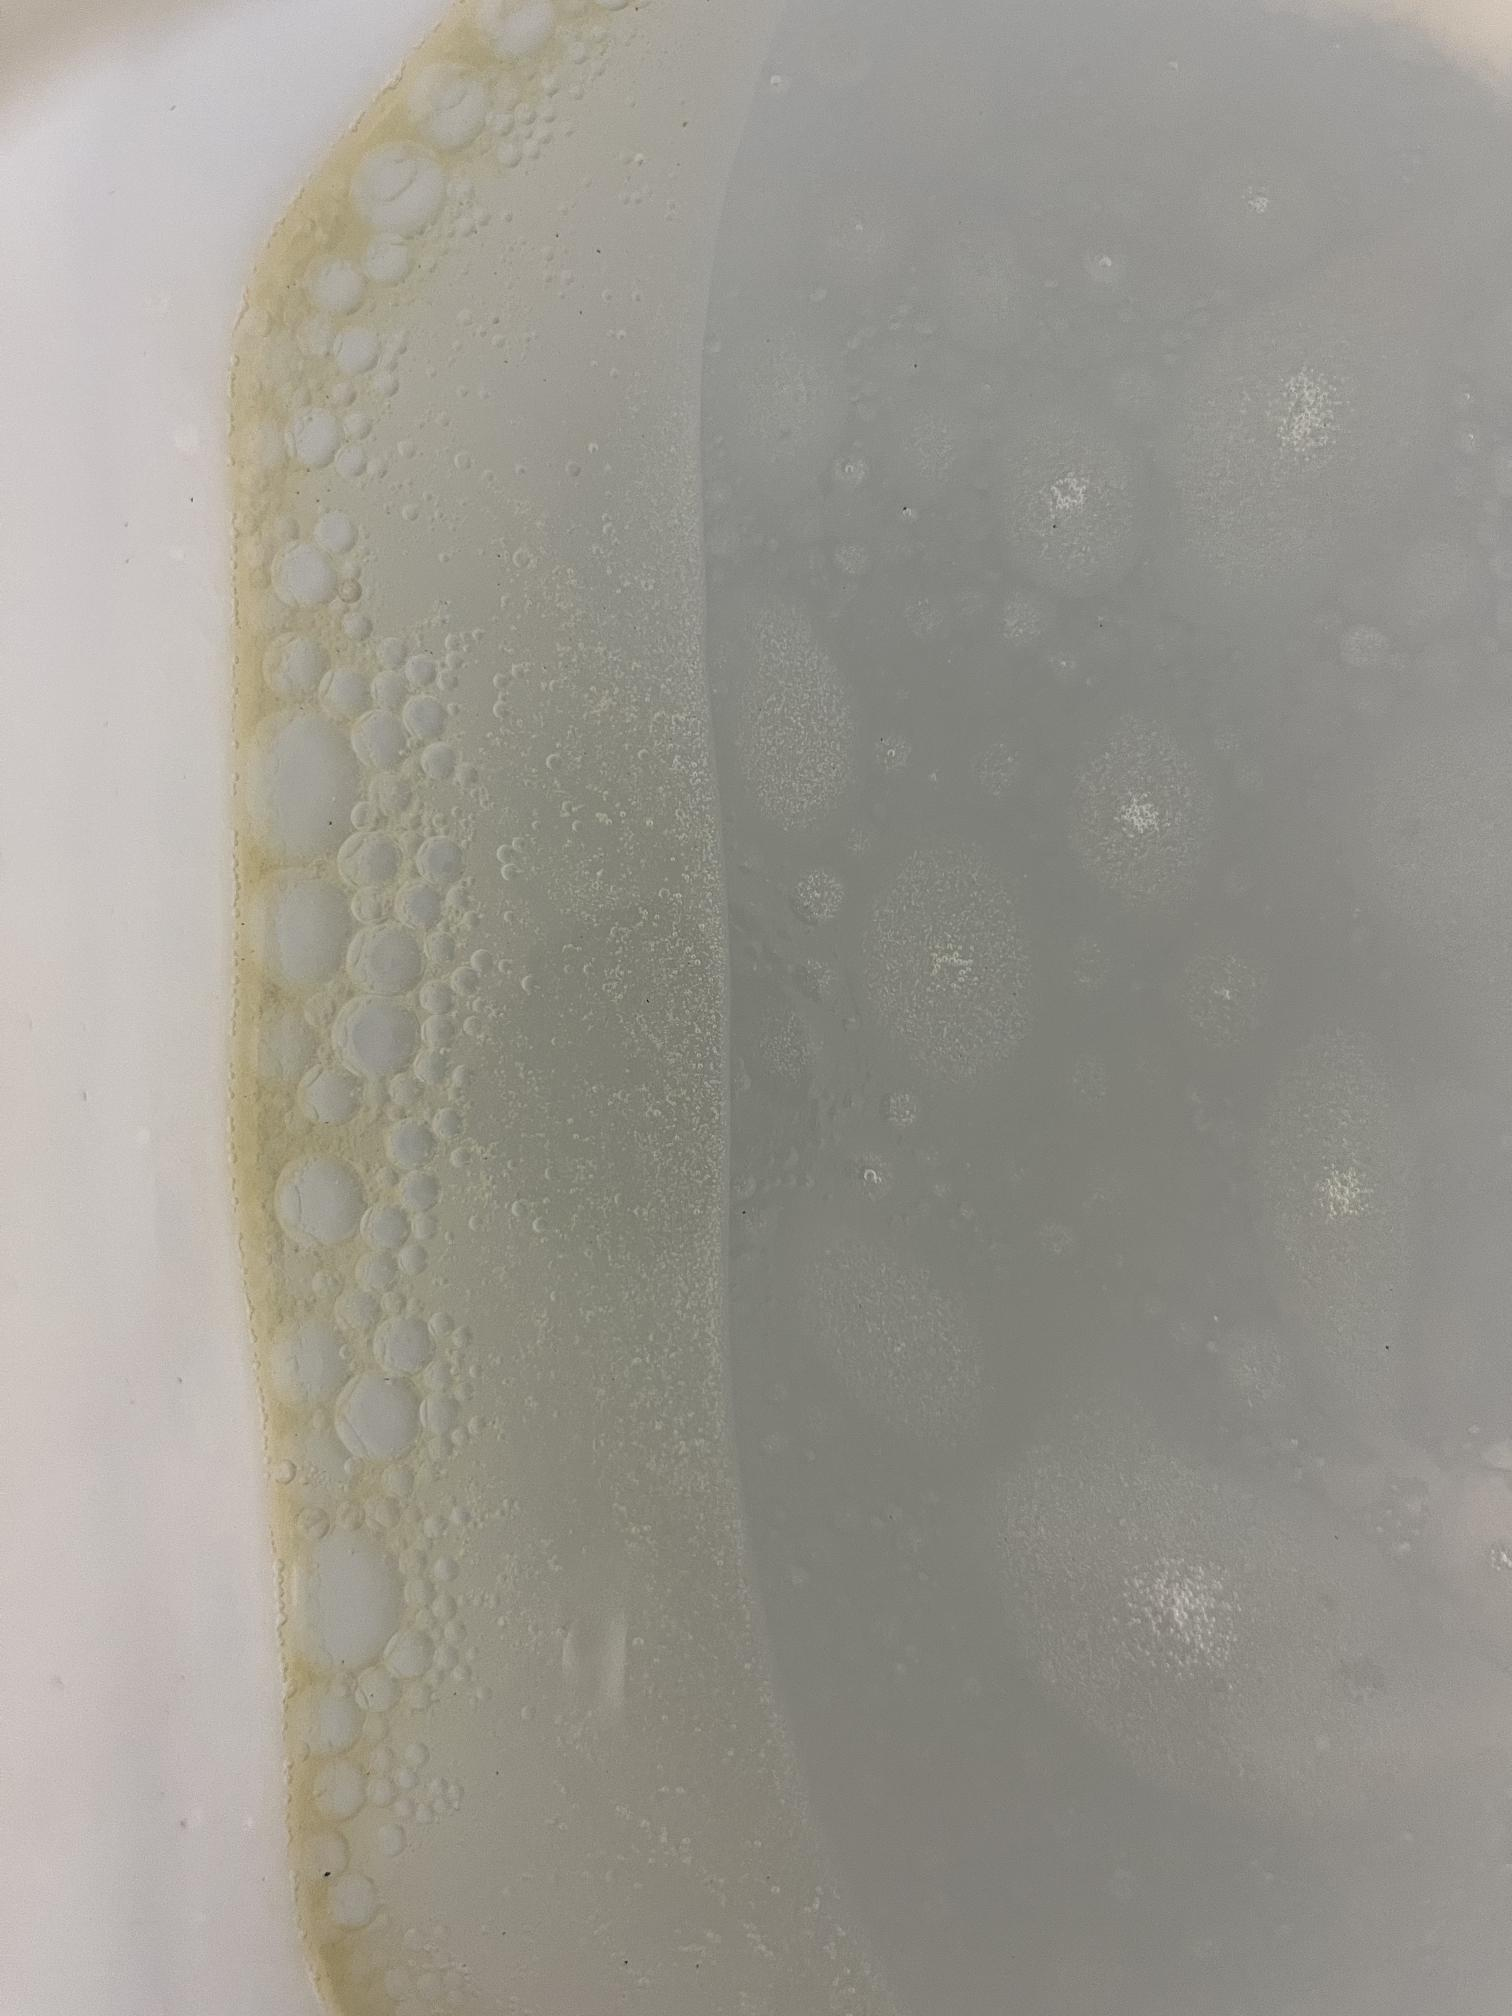Borda de Oleo - - 30ml: (229, 0, 897, 2016)
Presenca de Oleo - - 30ml: (79, 95, 1450, 1910)
